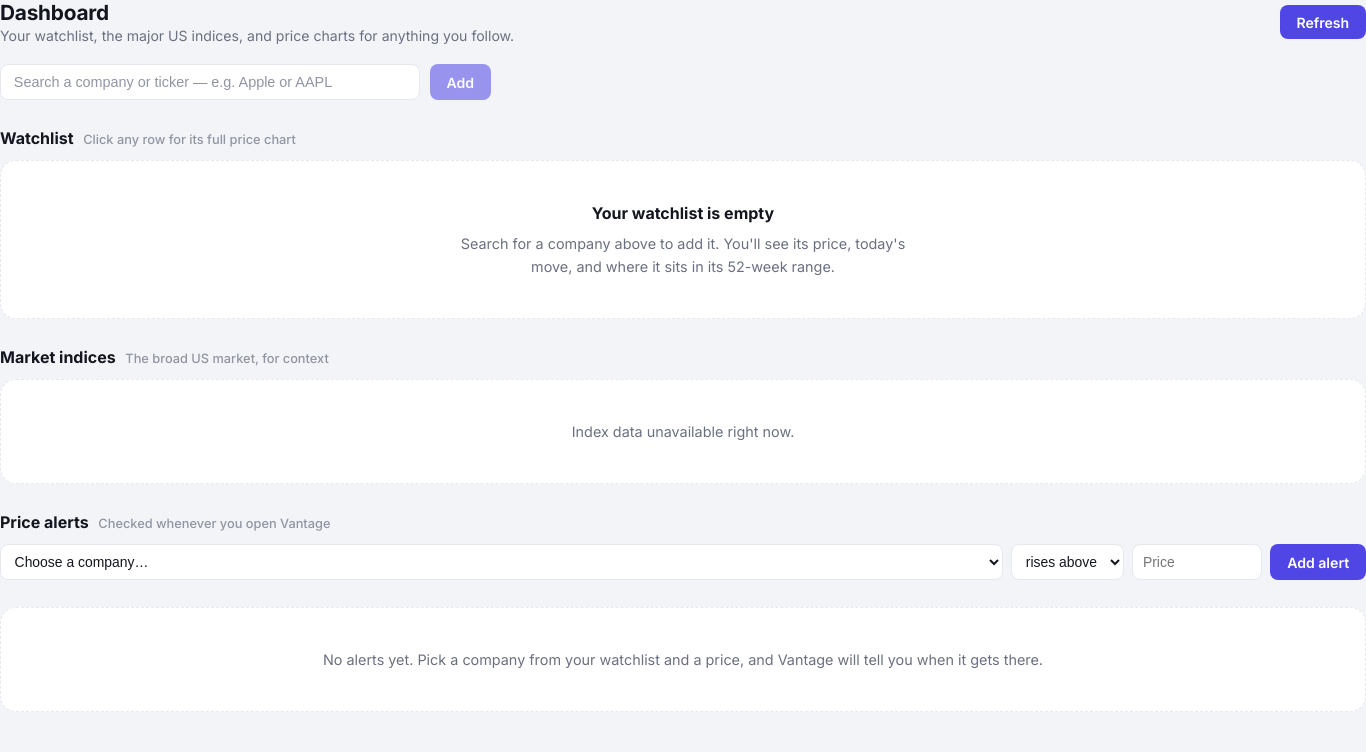
Test: DashboardPage watchlist › adds a ticker picked from the search suggestions
Expected: the text "Your watchlist is empty" is shown, [592,203,774,223]
Type "apple" into the field named "Search for a company or ticker" at [210, 82], box [0,64,420,100]
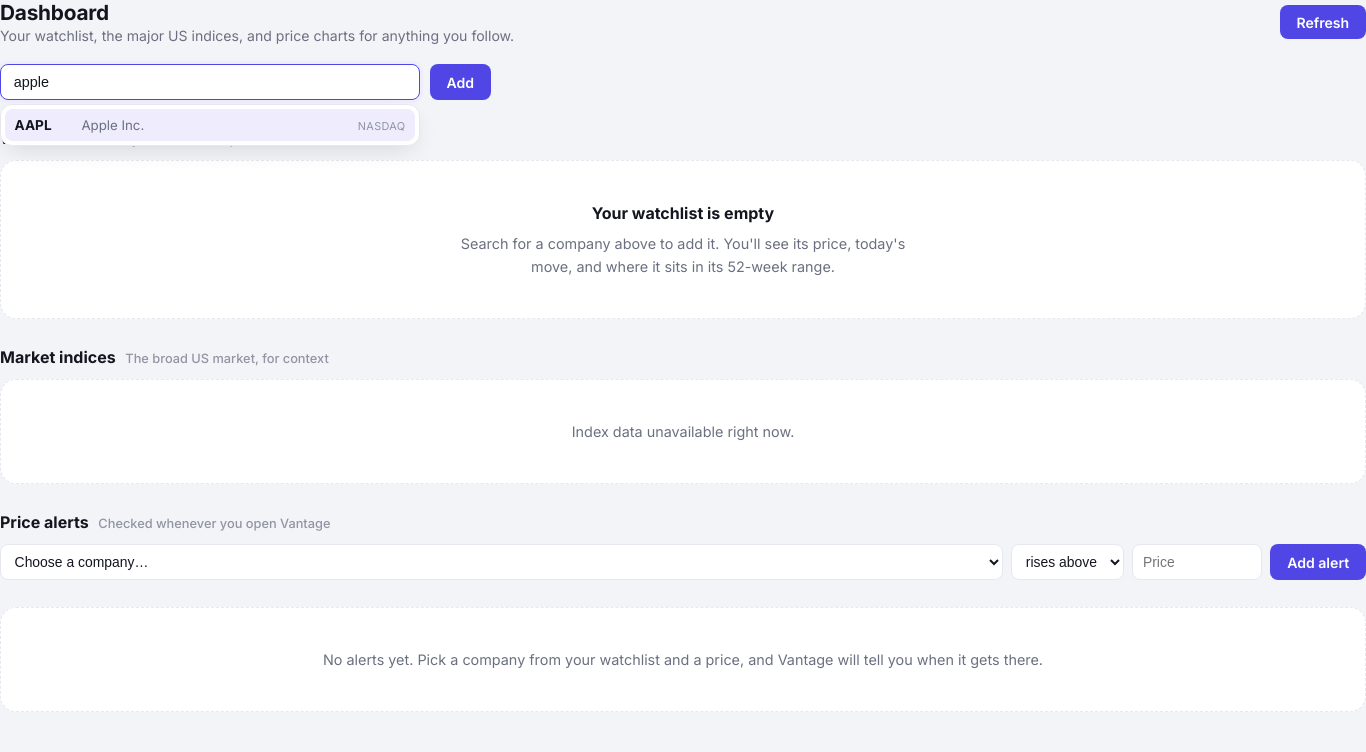
Click the text "Apple Inc." at [113, 125], box [81,117,144,133]
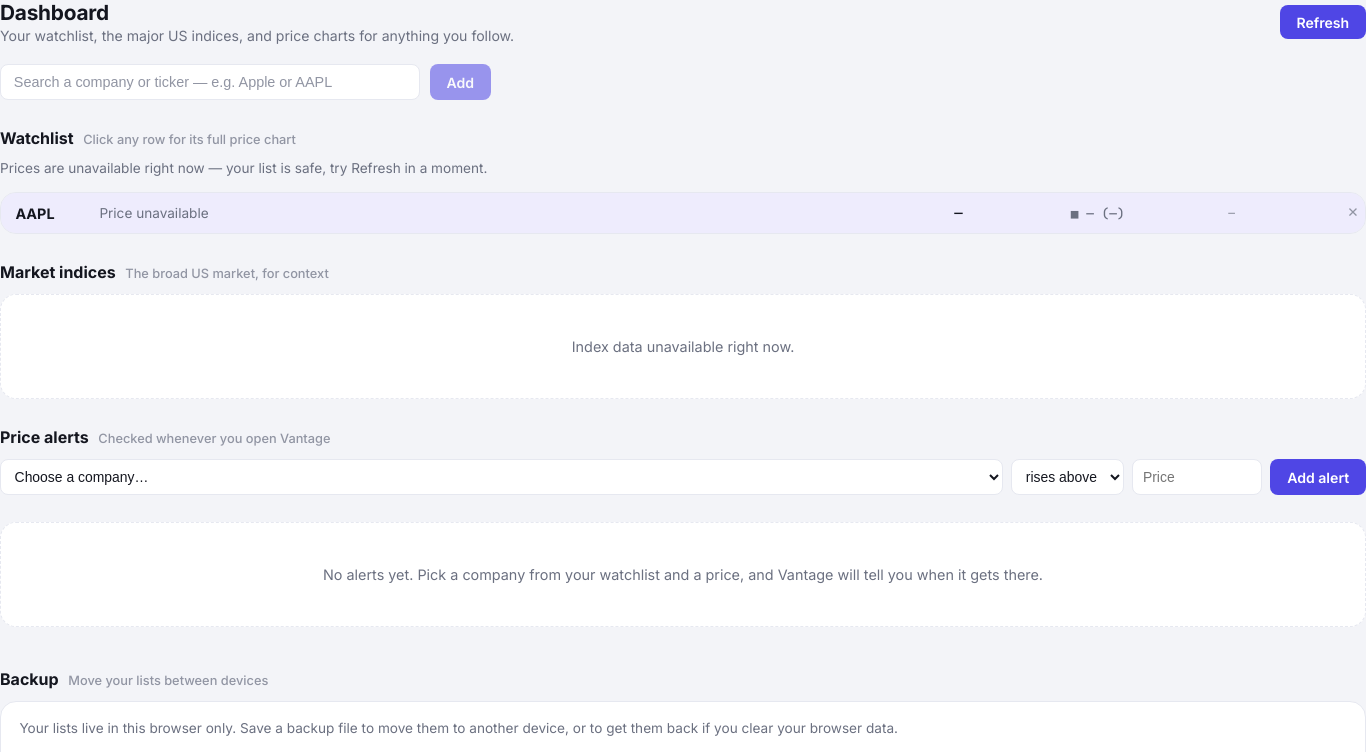
Result: the text "AAPL" is shown at [15,205,55,222]
